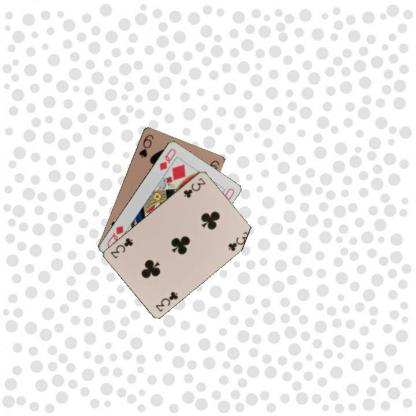3c: (181, 175, 207, 199), (153, 288, 179, 312)
6s: (136, 132, 155, 159)
Qd: (156, 146, 177, 172)
